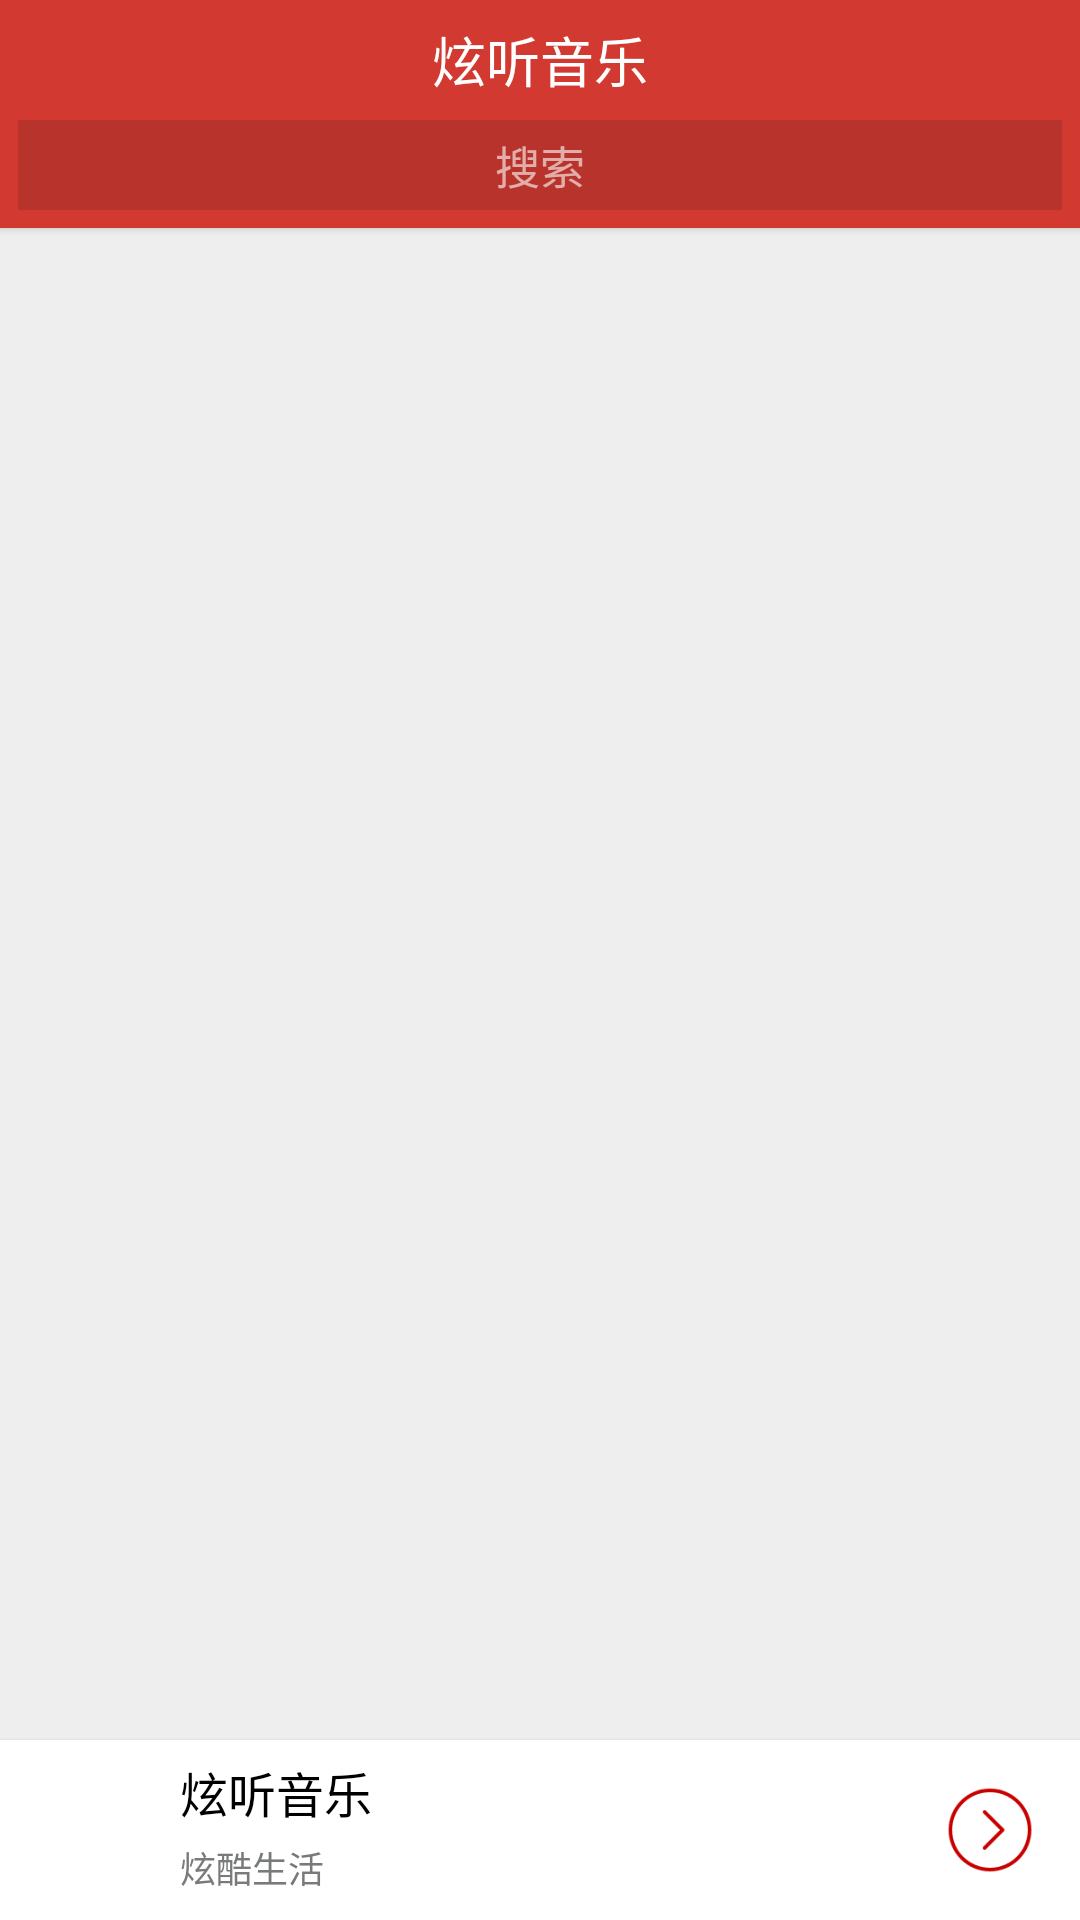

Icon click points for this 1080×1920 phone screenshot, format point (x, y):
next: point (990, 1830)
